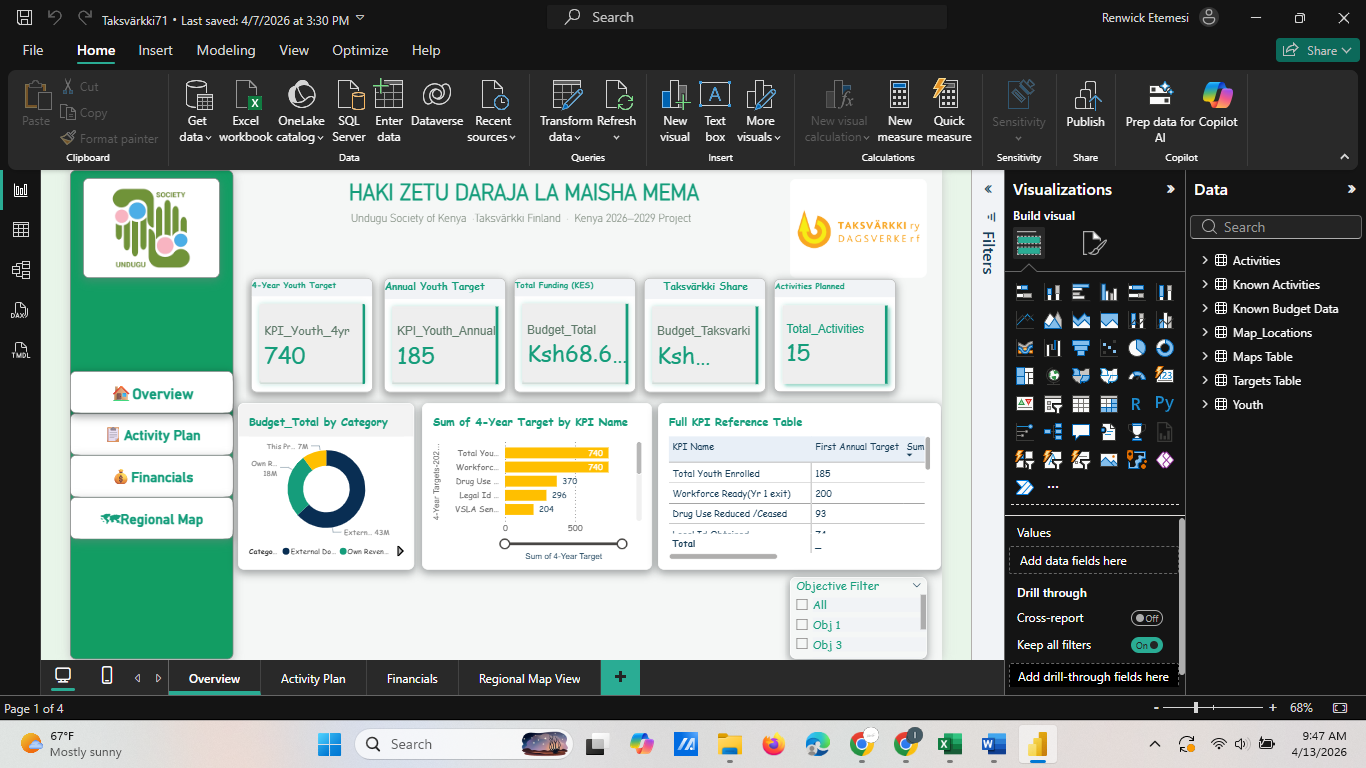

What the dashboard file says about the page in this screenshot:
{"tool":"powerbi","page":{"name":"Overview","canvas":[1280,720],"ordinal":0},"visuals":[{"type":"shape","box":[0,0,240,719.3],"z":0},{"type":"image","box":[19.1,11.8,201.3,146.9],"z":1000},{"type":"image","box":[1058,13.2,201.3,145.5],"z":2000},{"type":"actionButton","box":[0,357.1,239.5,61.7],"z":4000},{"type":"actionButton","box":[0,418.8,239.5,61.7],"z":5000},{"type":"actionButton","box":[0,480.5,239.5,61.7],"z":6000},{"type":"actionButton","box":[0,295.3,239.5,61.7],"z":7000},{"type":"textbox","box":[376.2,13.2,581.9,47],"z":8000},{"type":"textbox","box":[412.9,60.2,545.1,36.7],"z":9000},{"type":"cardVisual","title":"4-Year Youth Target","fields":{"Data":["Targets Table.KPI_Youth_4yr"]},"box":[266,158.7,179.3,167.5],"z":10000},{"type":"cardVisual","title":"Total  Funding (KES)","fields":{"Data":["Known Budget Data.Budget_Total"]},"box":[652.4,158.7,179.3,167.5],"z":11000},{"type":"cardVisual","title":"Taksvärkki Share","fields":{"Data":["Known Budget Data.Budget_Taksvarki"]},"box":[843.4,158.7,179.3,167.5],"z":12000},{"type":"donutChart","fields":{"Category":["Known Budget Data.Category"],"Y":["Known Budget Data.Budget_Total"]},"box":[246.9,342.4,258.6,245.4],"z":13000},{"type":"cardVisual","title":"Annual Youth Target","fields":{"Data":["Targets Table.KPI_Youth_Annual"]},"box":[461.4,158.7,179.3,167.5],"z":14000},{"type":"cardVisual","title":"Activities Planned","fields":{"Data":["Known Activities.Total_Activities"]},"box":[1034.4,160.2,179.3,166],"z":15000},{"type":"clusteredBarChart","fields":{"Category":["Targets Table.KPI Name"],"Y":["Sum(Targets Table.4-Year Target)"]},"box":[517.2,342.4,338,245.4],"z":16000},{"type":"pivotTable","title":"Full KPI Reference Table","fields":{"Rows":["Targets Table.KPI Name"],"Values":["Min(Targets Table.Annual Target)","Sum(Targets Table.4-Year Target)","Min(Targets Table.Objective)"]},"box":[864,342.4,415.8,245.4],"z":17000},{"type":"slicer","fields":{"Values":["Targets Table.Objective"]},"box":[1058,598,201.3,120.5],"z":18000}]}

Visuals, with their boxes on the page's 1280x720 design canvas (x1, y1, x2, y2). These are canvas units, not pixel positions in the 1366x768 screenshot, which may show the page scaled, cropped or inside an application window:
shape: locate(0, 0, 240, 719)
image: locate(19, 12, 220, 159)
image: locate(1058, 13, 1259, 159)
actionButton: locate(0, 357, 240, 419)
actionButton: locate(0, 419, 240, 480)
actionButton: locate(0, 480, 240, 542)
actionButton: locate(0, 295, 240, 357)
textbox: locate(376, 13, 958, 60)
textbox: locate(413, 60, 958, 97)
"4-Year Youth Target" cardVisual: locate(266, 159, 445, 326)
"Total  Funding (KES)" cardVisual: locate(652, 159, 832, 326)
"Taksvärkki Share" cardVisual: locate(843, 159, 1023, 326)
donutChart - Known Budget Data.Category x Known Budget Data.Budget_Total: locate(247, 342, 506, 588)
"Annual Youth Target" cardVisual: locate(461, 159, 641, 326)
"Activities Planned" cardVisual: locate(1034, 160, 1214, 326)
clusteredBarChart - Targets Table.KPI Name x Sum(Targets Table.4-Year Target): locate(517, 342, 855, 588)
"Full KPI Reference Table" pivotTable: locate(864, 342, 1280, 588)
slicer - Targets Table.Objective: locate(1058, 598, 1259, 718)
